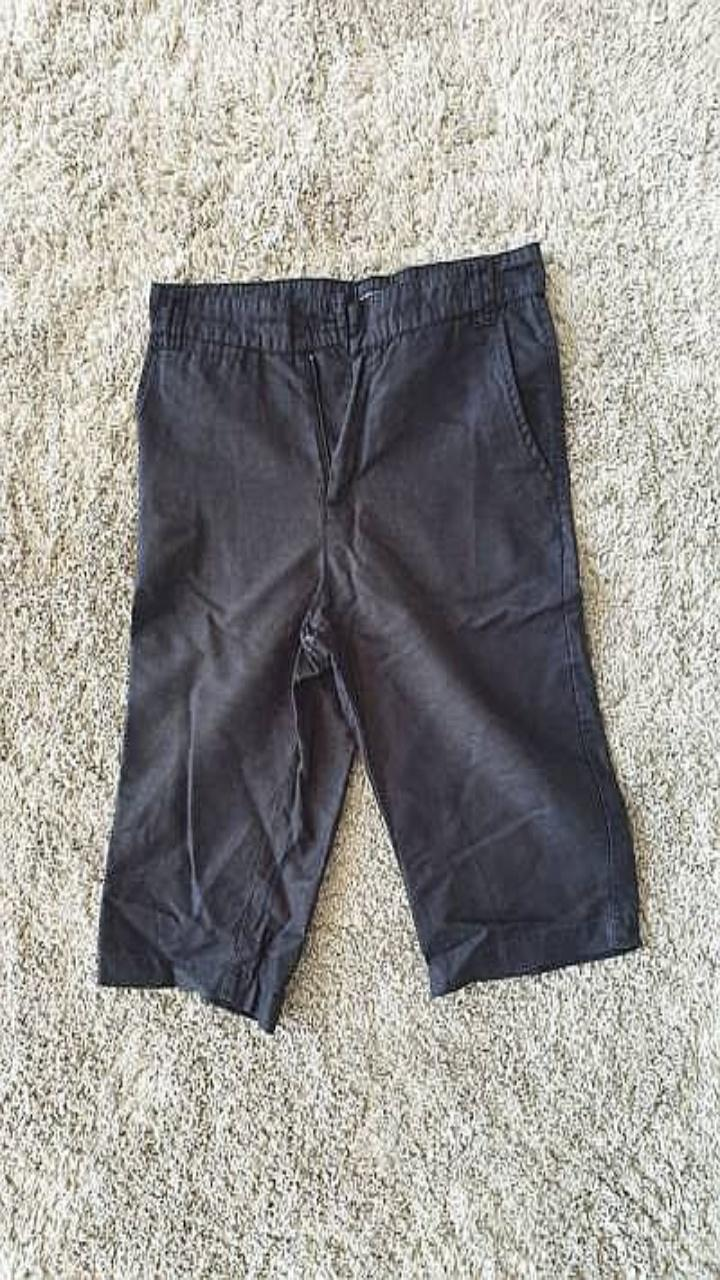Shorts: (97, 242, 639, 1031)
